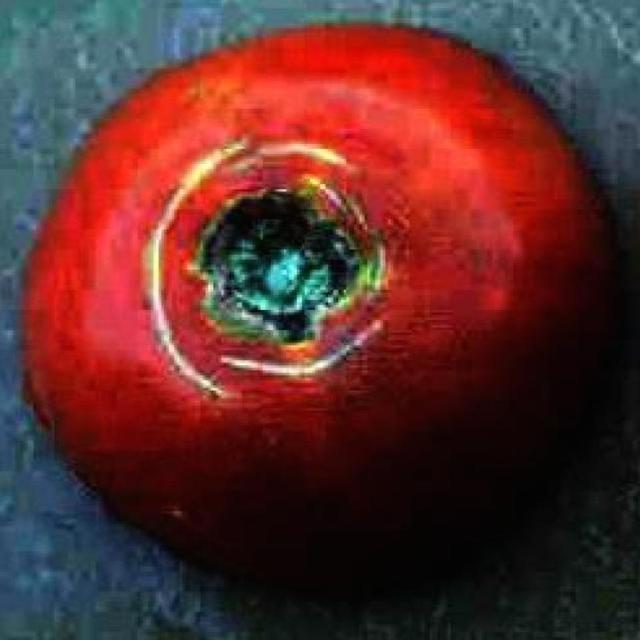Blossom End Rot Fruit: (138, 122, 252, 225)
